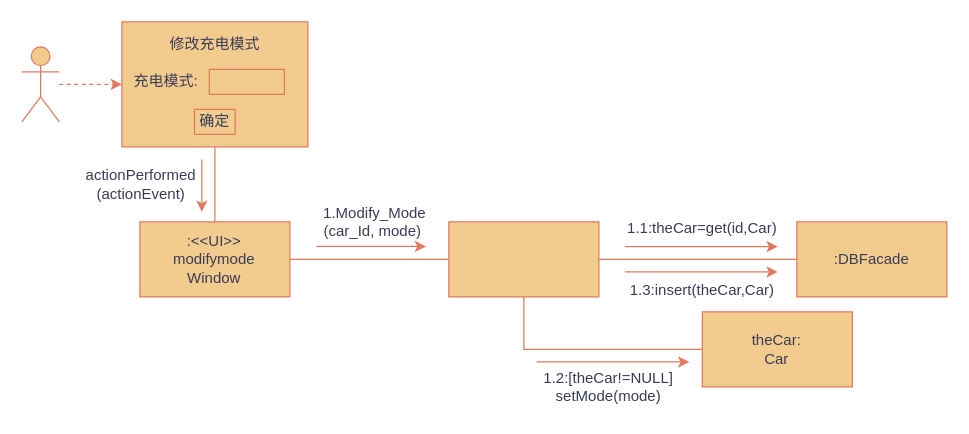
Some shapes in this 969 by 434 pixel diagram are drawn without their labels. Here are the shapes that lost their labels. From the top down, the centre of each, then its label:
At point 40,84: "User".
At point 523,259: "controller: WaitingController".
